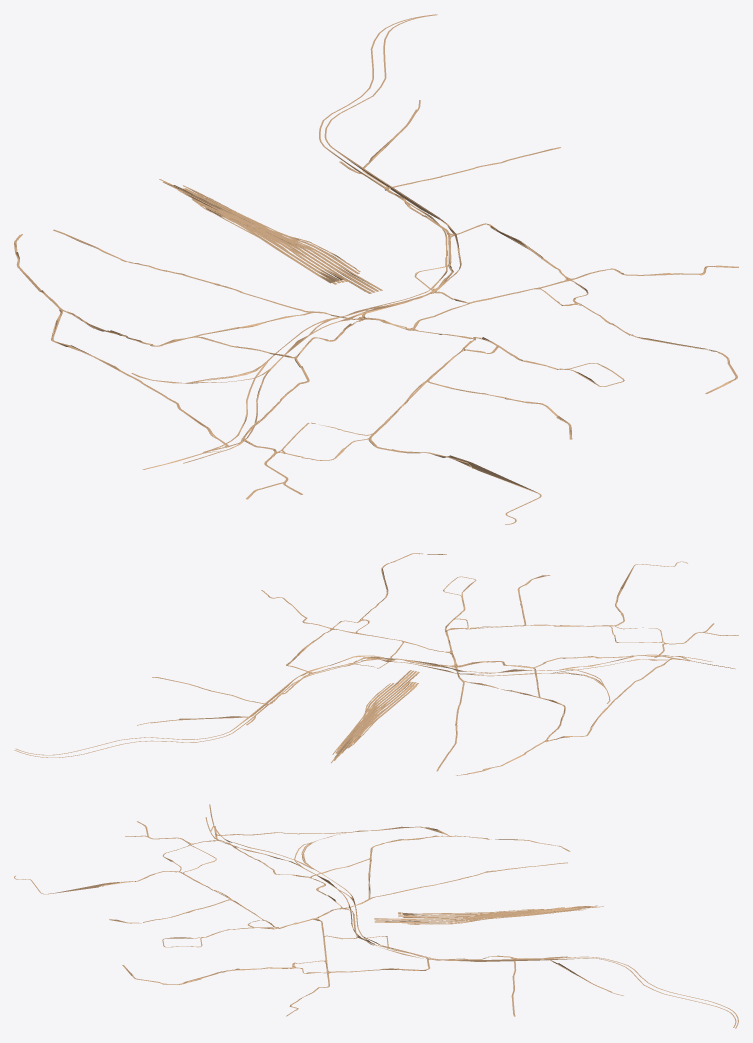
The model's file is rail.glb.
3 views of the same model, one above another, from view 1: azimuth 30°, elevation 25°; view 2: azimuth 150°, elevation 25°; view 3: azimuth 270°, elevation 25° (orthographic). The views are drawn at different scales.
Visible parts, largest first — view 1: rail; view 2: rail; view 3: rail.
Boxes of the visible parts, box(x1,y1,x2,y2) form: rail: box(14, 14, 738, 524); rail: box(14, 553, 738, 775); rail: box(14, 804, 738, 1028).
Size of the model in its own units: 2908 by 38.85 by 3978.
